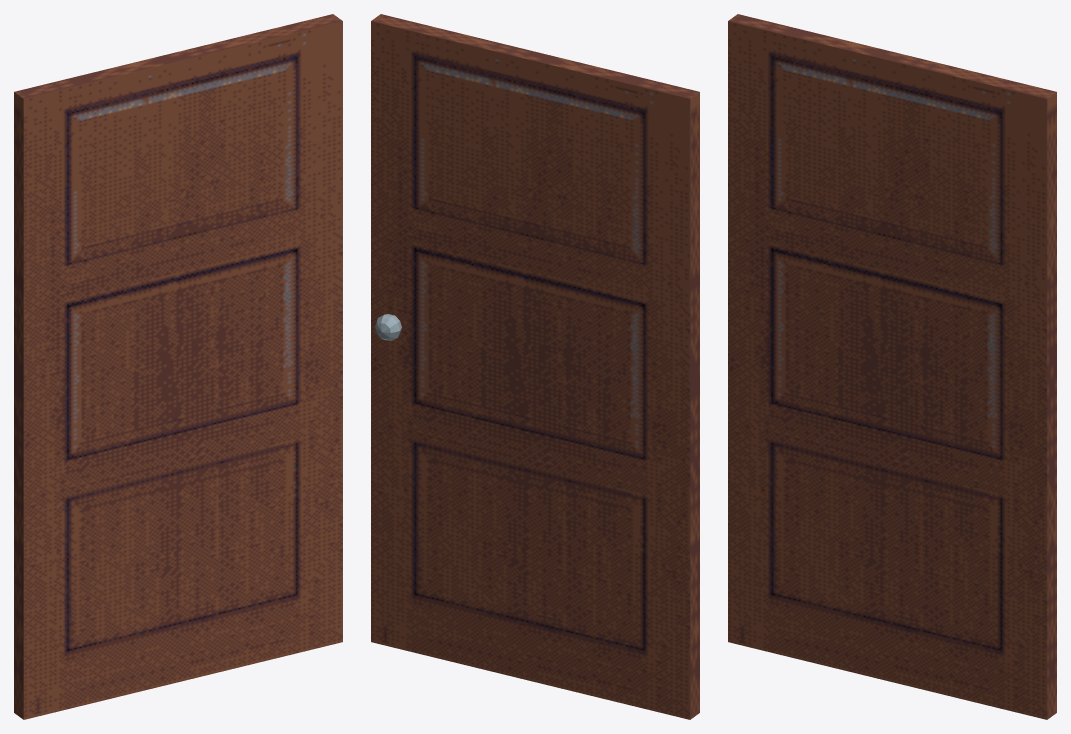
Rendered from door_05.glb.
3 views of the same model, side by side, from view 1: azimuth 30°, elevation 25°; view 2: azimuth 150°, elevation 25°; view 3: azimuth 330°, elevation 25° (orthographic).
Parts seen in each view (by area): view 1: polySurface32.001; view 2: polySurface32.001; view 3: polySurface32.001.
Part boxes in pixels (x1=…): polySurface32.001: x1=14, y1=14, x2=342, y2=719; polySurface32.001: x1=371, y1=14, x2=699, y2=719; polySurface32.001: x1=728, y1=14, x2=1056, y2=719.
Bounding box in the file's own units: 1.13 × 2.1 × 0.1274.
2 materials, 2 textured.
